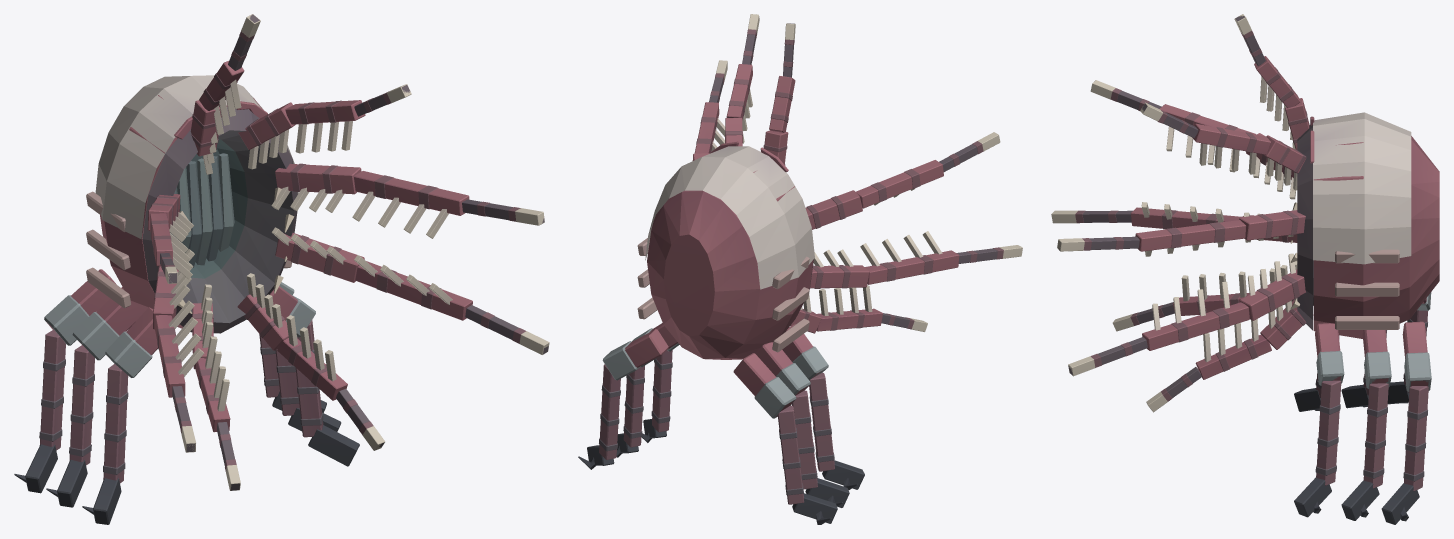
File: AdaptedViscera.glb
3 views of the same model, side by side, from view 1: azimuth 30°, elevation 25°; view 2: azimuth 150°, elevation 25°; view 3: azimuth 270°, elevation 25° (orthographic). The views are drawn at different scales.
Parts seen in each view (by area): view 1: Body, LegR, ArmR, ArmL, LegL; view 2: Body, LegR, LegL, ArmR, ArmL; view 3: Body, LegL, ArmL, LegR, ArmR.
Boxes of the visible parts, x1,y1,x2,y2 form: Body: (46,14,549,507); LegR: (14,269,116,493); ArmR: (82,307,157,524); ArmL: (269,286,359,466); LegL: (259,335,326,412); Body: (616,14,1022,507); LegR: (733,353,837,524); LegL: (578,329,668,469); ArmR: (782,324,864,490); ArmL: (641,343,679,442); Body: (1051,14,1439,520); LegL: (1381,321,1431,524); ArmL: (1294,323,1344,517); LegR: (1387,292,1431,404); ArmR: (1294,335,1339,411).
Bounding box in the file's own units: 8.02 × 10.39 × 8.25.
